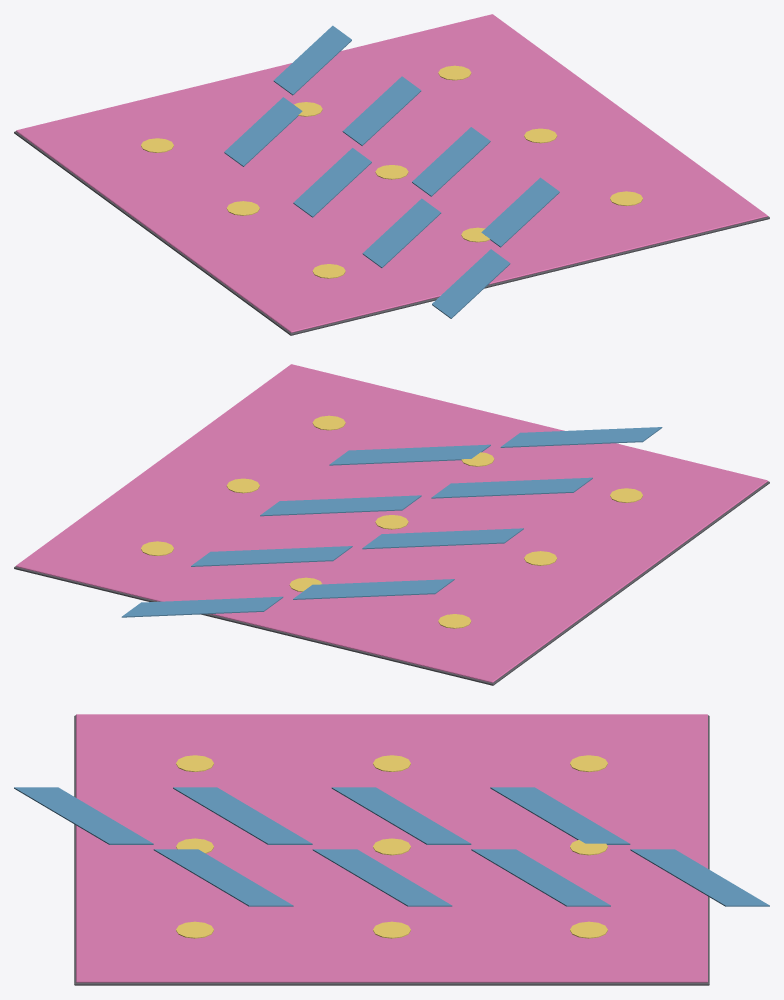
Rendered from amusement-arcade-and-seaside-pier-arcade-carpet-module-6981dcf1__35415.glb.
The picture shows the model from 3 angles, top to bottom: view 1: azimuth 30°, elevation 25°; view 2: azimuth 150°, elevation 25°; view 3: azimuth 270°, elevation 25°; orthographic projection. The views are drawn at different scales.
Visible parts, largest first — view 1: arcade-carpet-module; view 2: arcade-carpet-module; view 3: arcade-carpet-module.
Part boxes in pixels (<box>): arcade-carpet-module: <box>14,14,769,335</box>; arcade-carpet-module: <box>14,364,769,685</box>; arcade-carpet-module: <box>14,714,769,985</box>.
Size of the model in its own units: 2 by 0.0181 by 2.38.
